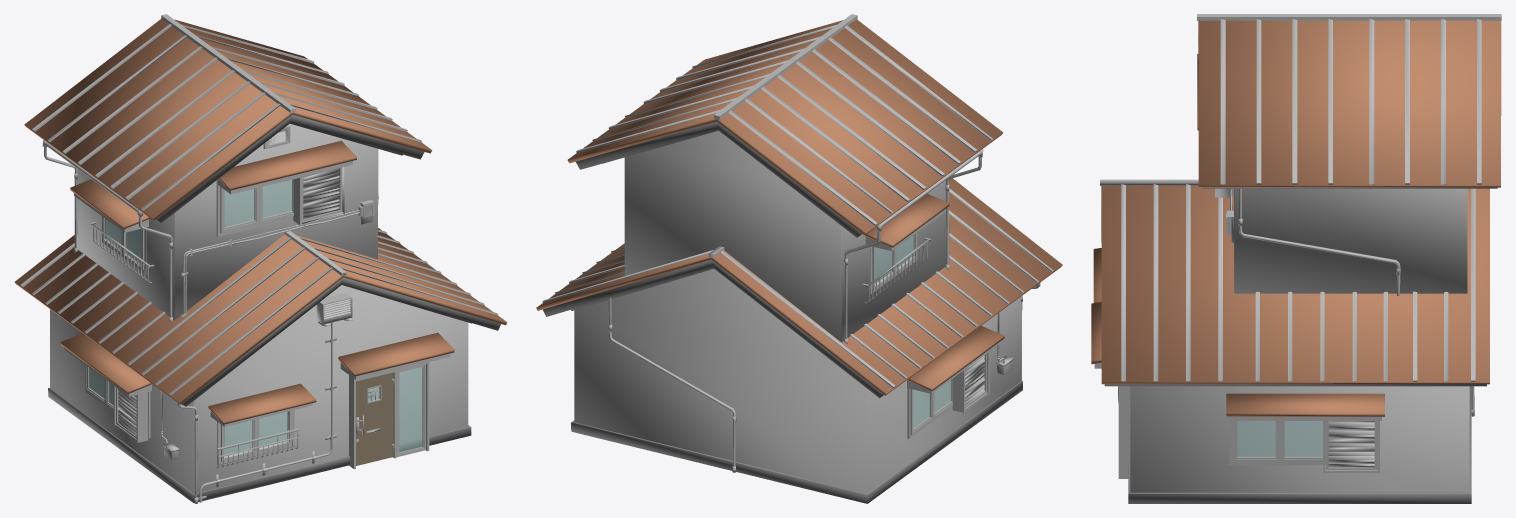
Rendered from house_residential_building_01.fbx.
3 views of the same model, side by side, from view 1: azimuth 30°, elevation 25°; view 2: azimuth 150°, elevation 25°; view 3: azimuth 270°, elevation 25° (orthographic). The views are drawn at different scales.
Parts seen in each view (by area): view 1: Box549.001; view 2: Box549.001; view 3: Box549.001.
Boxes of the visible parts, left/top/right/bottom form: Box549.001: left=14, top=14, right=507, bottom=503; Box549.001: left=536, top=14, right=1062, bottom=503; Box549.001: left=1091, top=14, right=1501, bottom=503.
Bounding box in the file's own units: 929 × 925 × 852.
